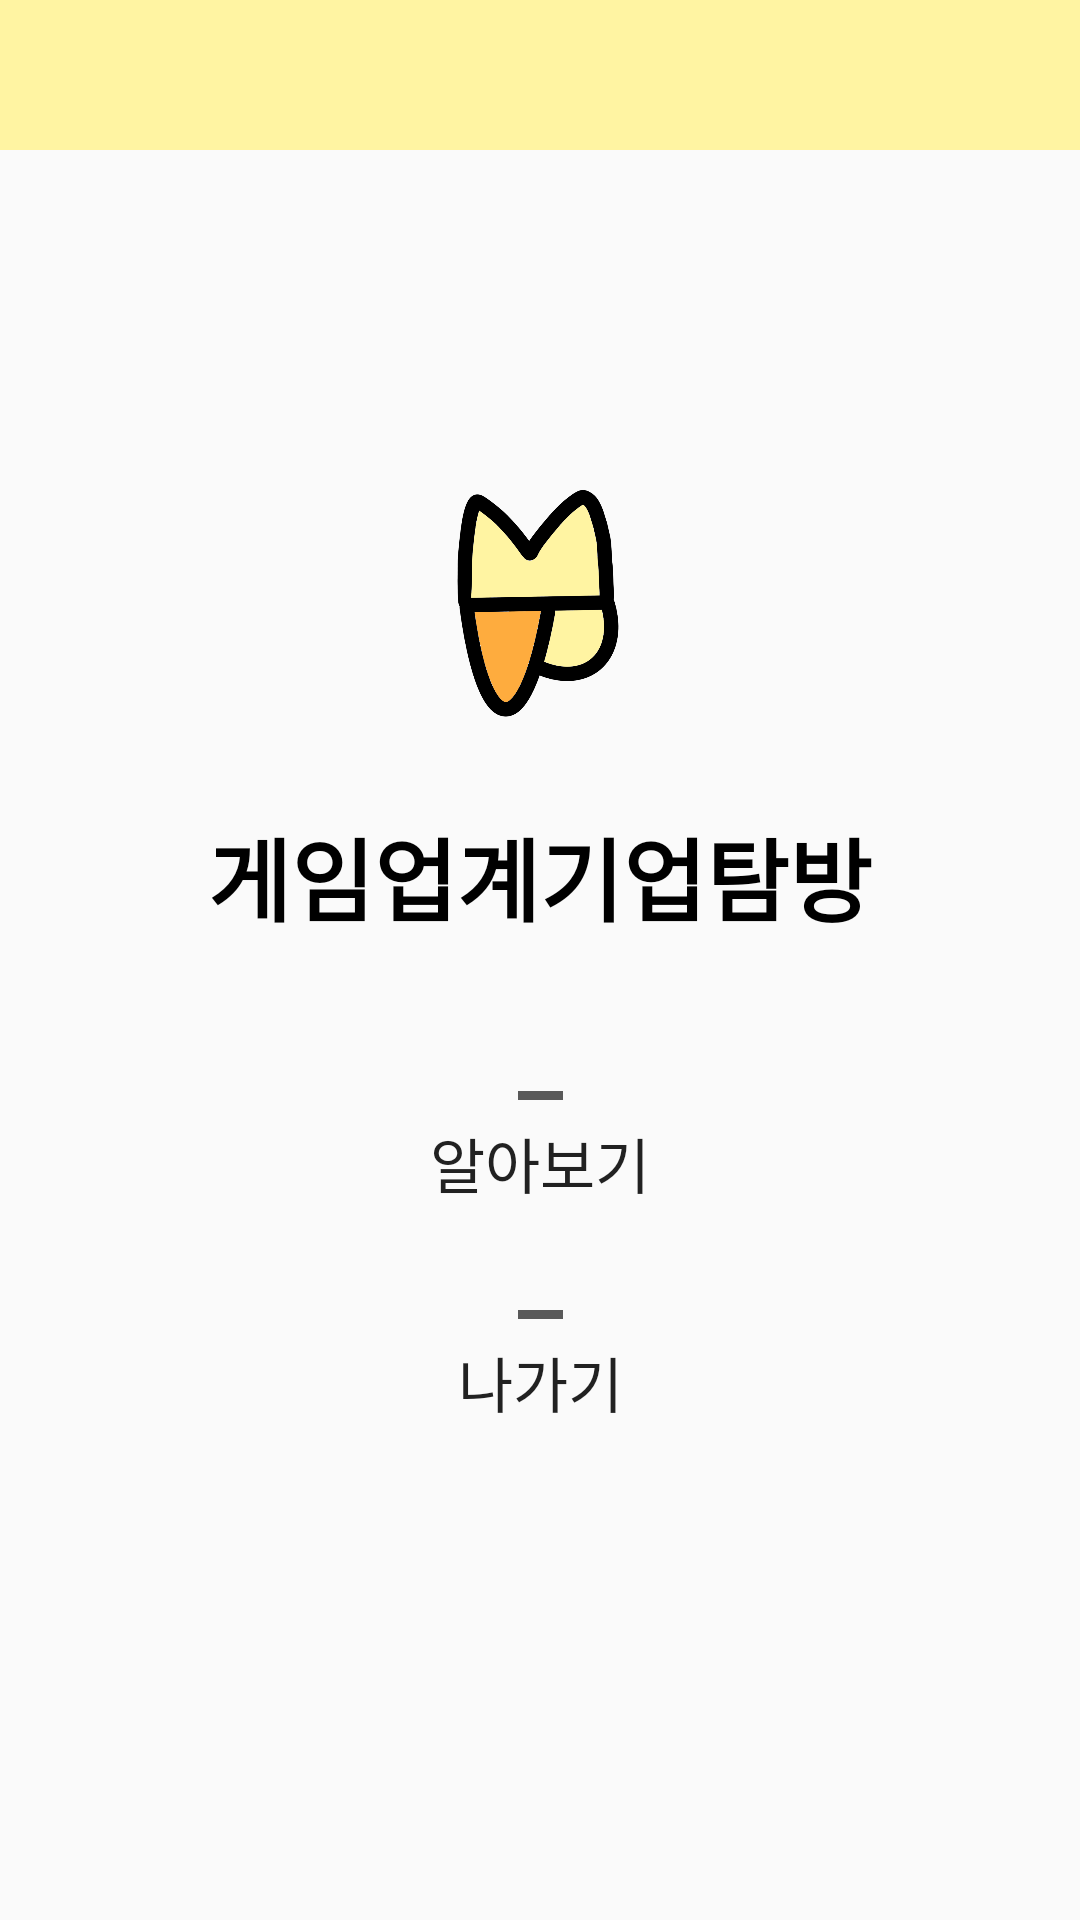

Icon bounding boxes for this 1080 × 1920 phone screenshot, format (x1, y1, x2, y2):
rogo: (457, 490, 619, 717)
